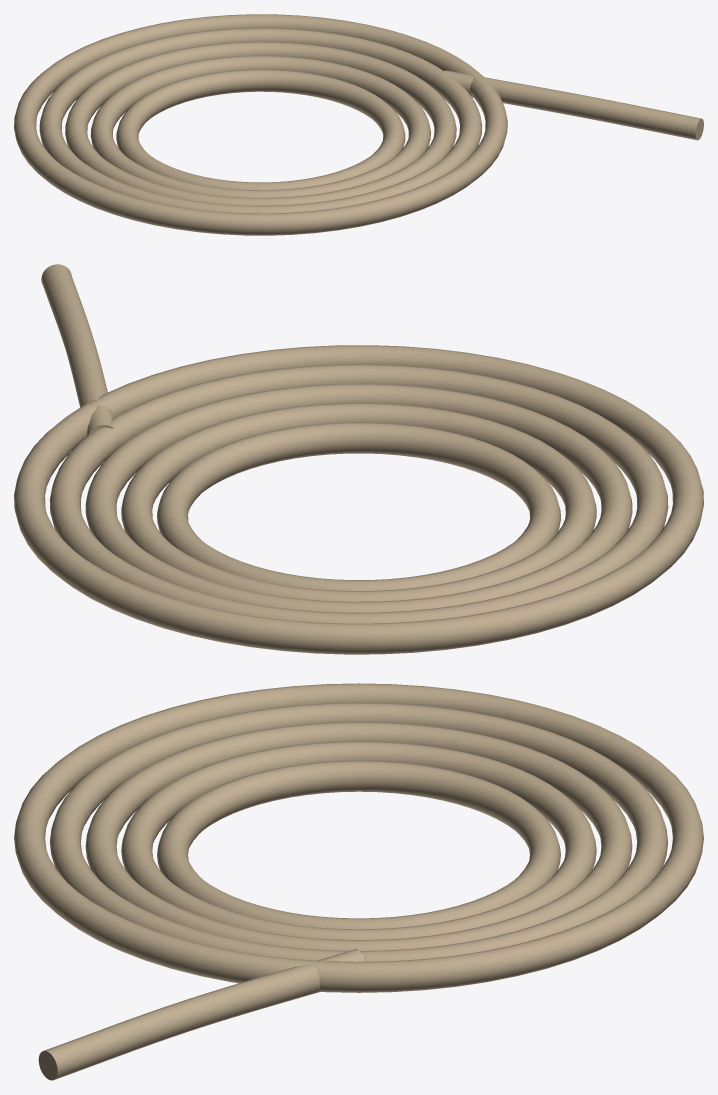
File: canal-boats-and-lock-operations-canal-boats-and-lock-o-859d995c__31648.glb
The picture shows the model from 3 angles, top to bottom: view 1: azimuth 30°, elevation 25°; view 2: azimuth 150°, elevation 25°; view 3: azimuth 270°, elevation 25°; orthographic projection. The views are drawn at different scales.
Parts seen in each view (by area): view 1: canal-boats-and-lock-operations-mooring-rope-coil; view 2: canal-boats-and-lock-operations-mooring-rope-coil; view 3: canal-boats-and-lock-operations-mooring-rope-coil.
Boxes of the visible parts, <box> form: canal-boats-and-lock-operations-mooring-rope-coil: <box>14,14,703,235</box>; canal-boats-and-lock-operations-mooring-rope-coil: <box>14,264,703,654</box>; canal-boats-and-lock-operations-mooring-rope-coil: <box>14,683,703,1080</box>.
Size of the model in its own units: 0.5699 by 0.0321 by 0.444.
